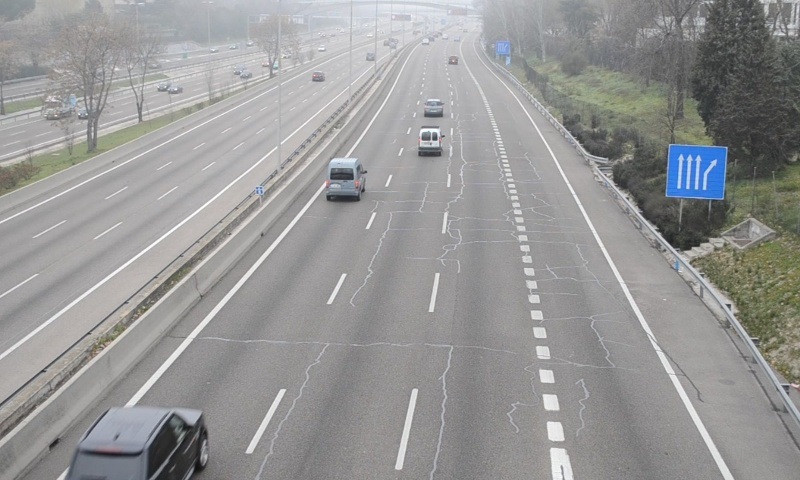car: (64, 406, 208, 480), (423, 98, 444, 117)
van: (325, 158, 366, 199), (418, 124, 441, 157)
